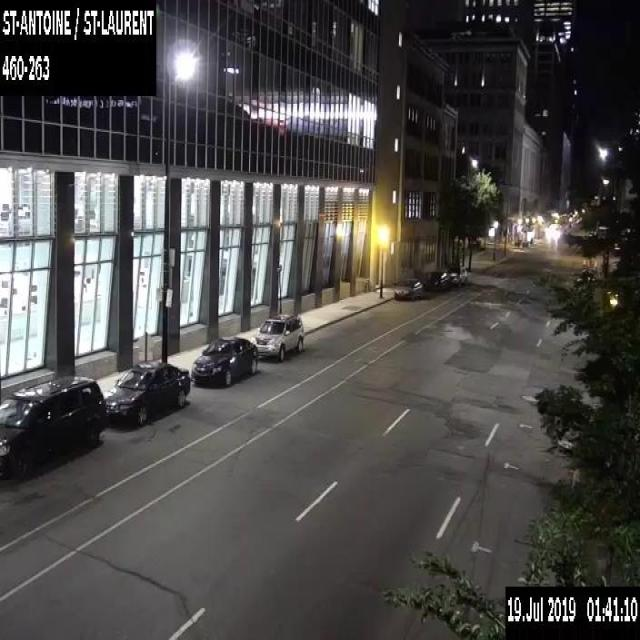construction: (134, 329, 156, 362), (581, 258, 596, 274)
vehicle: (0, 374, 105, 476), (104, 362, 190, 426), (191, 335, 258, 386), (250, 312, 304, 361), (394, 276, 422, 298), (422, 270, 450, 289), (446, 264, 466, 287)
